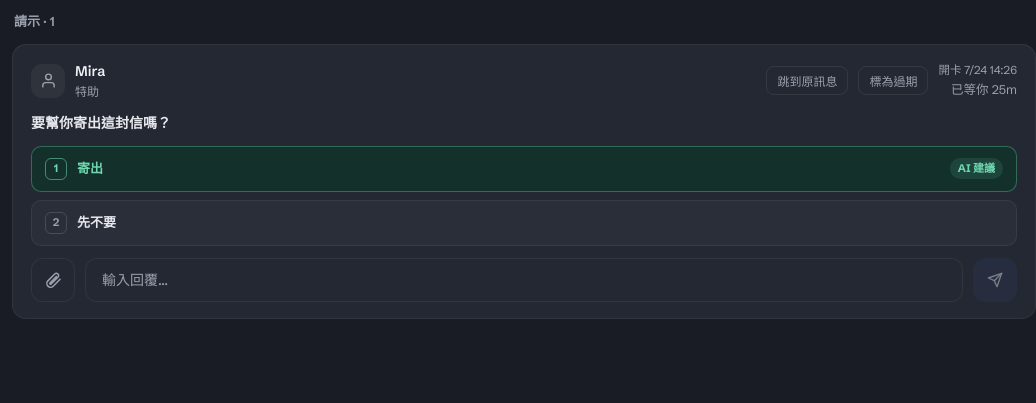
it: RepliesPage › a 409 answer says the card is stale — never 請稍後重試 — and re-pulls the pane
The image size is (1036, 403).
Click the button with class "reply-option" showing "1 寄出 AI 建議" at (976,168), box [31, 146, 1017, 192]
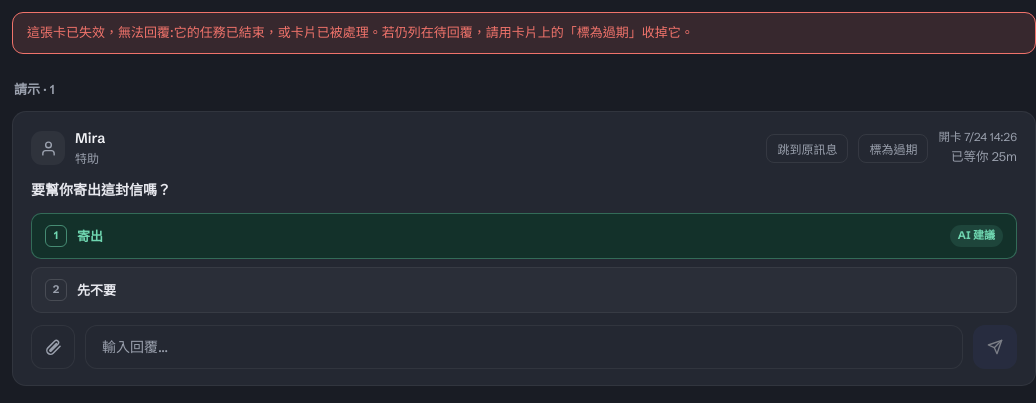
Expected: the text with test id "replies-action-error" reads "這張卡已失效，無法回覆:它的任務已結束，或卡片已被處理。若仍列在待回覆，請用卡片上的「標為過期」收掉它。", [27, 24, 694, 40]
Expected: the text with test id "replies-action-error" shows "標為過期", [27, 24, 694, 40]
